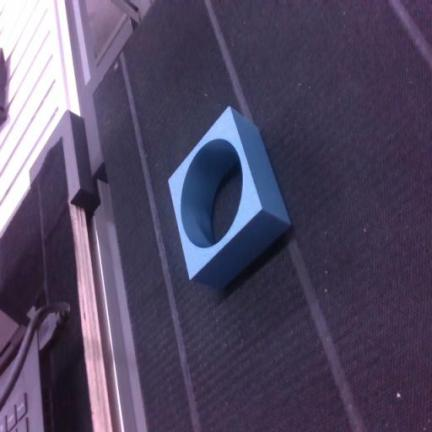hole: (169, 107, 289, 287)
